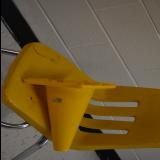cone: (22, 78, 116, 152)
